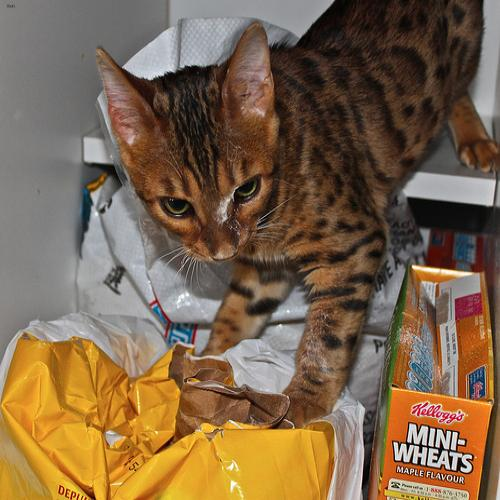cat-face: (85, 24, 297, 273)
